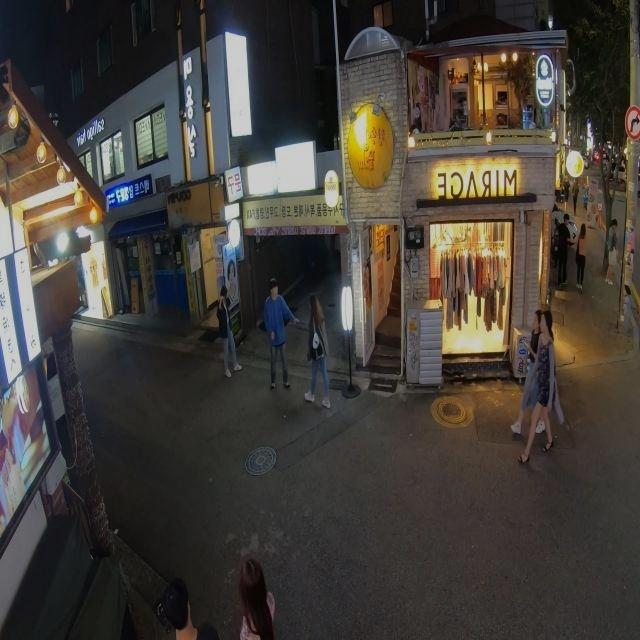fight: (262, 278, 300, 390), (306, 297, 334, 406)
non-fight: (517, 310, 564, 468), (507, 302, 548, 438), (217, 286, 243, 378)
